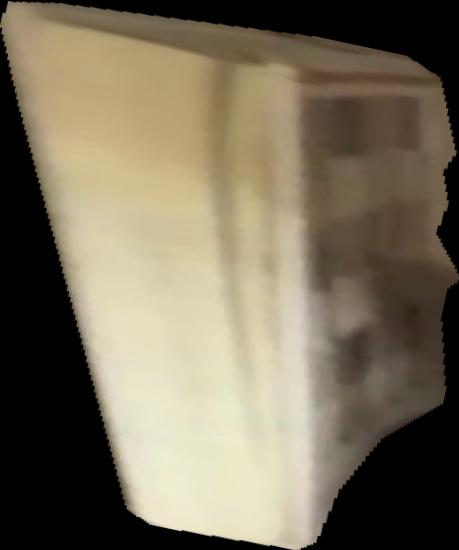backward: (1, 1, 459, 550)
